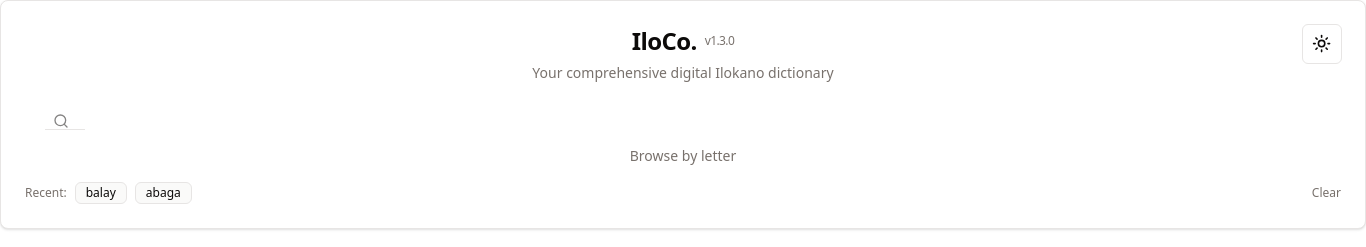
Test: Search › shows recents from localStorage and clears them
The image size is (1366, 247).
Expected: the button "balay" is shown, [75, 182, 127, 204]
Expected: the button "abaga" is shown, [135, 182, 192, 204]
What coordinates should you click on to do the following:
click the button "Clear"
I would click on:
 (1326, 193)
Its box is [1312, 185, 1341, 201].
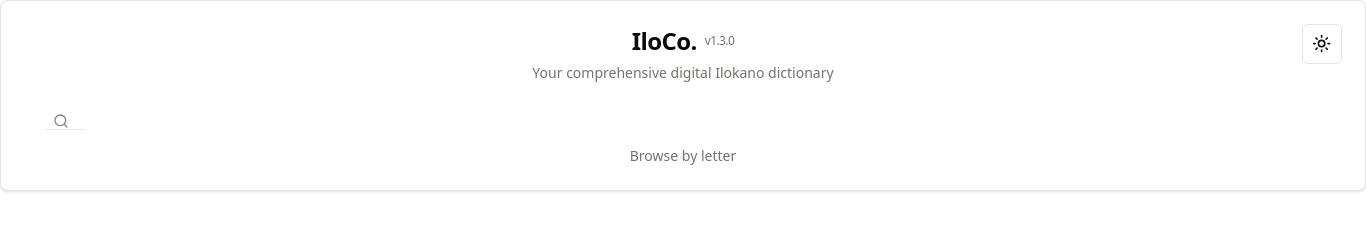
Now the button "balay" is gone
